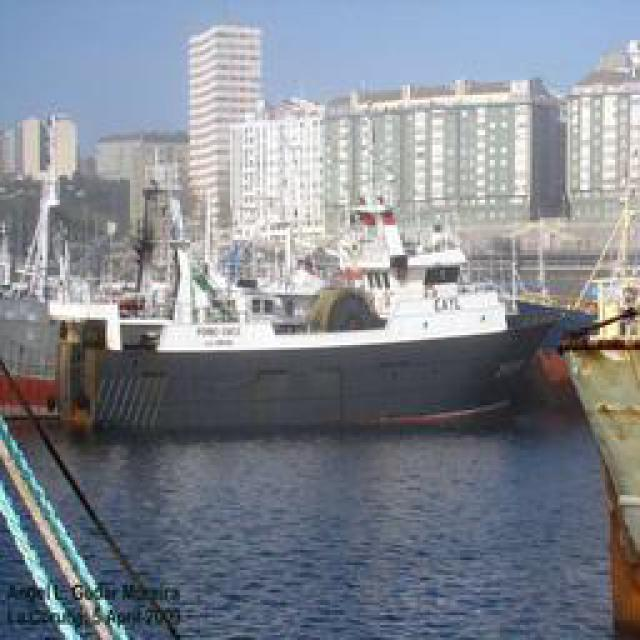Ship: (40, 196, 578, 434)
